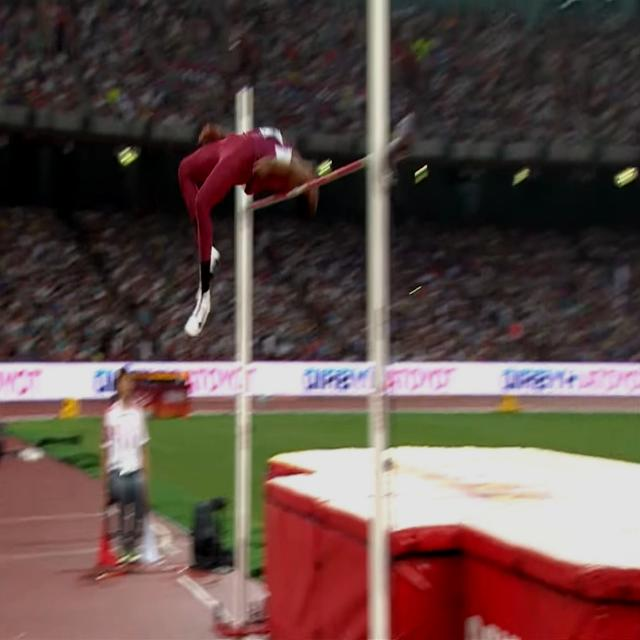jump: (178, 124, 320, 338)
